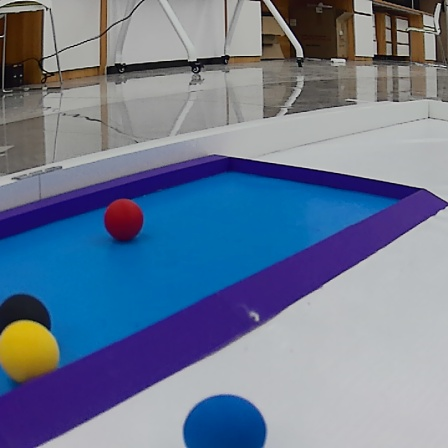black: (0, 290, 53, 345)
blue: (179, 392, 270, 448)
blue_aim: (3, 150, 448, 448)
red: (101, 197, 152, 246)
yellow: (0, 317, 62, 387)
